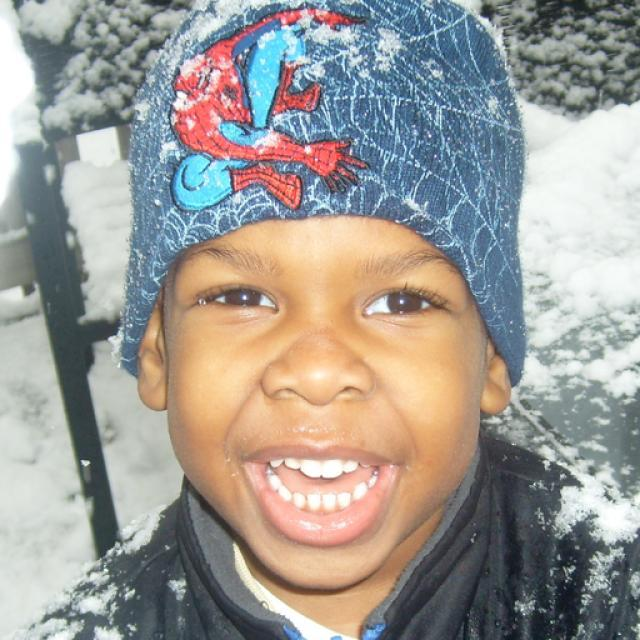happy: (166, 211, 484, 591)
